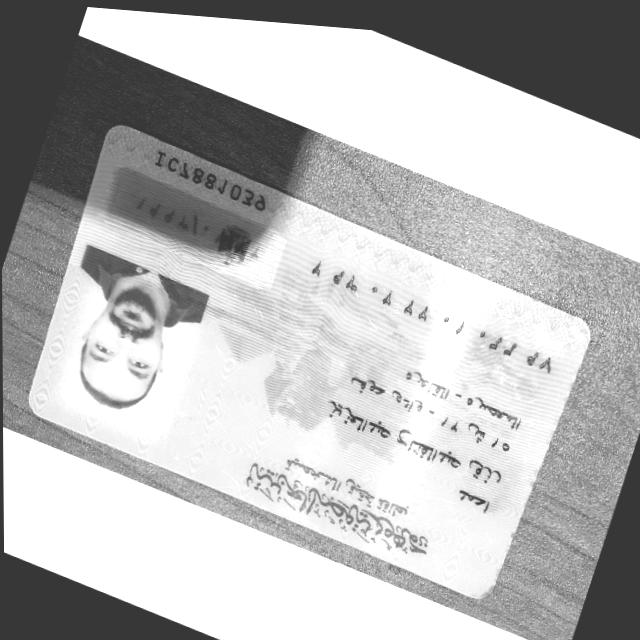id_card: (28, 127, 590, 600)
